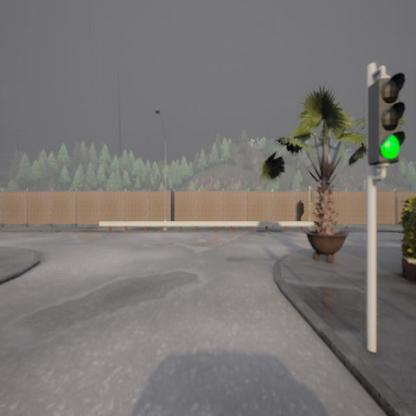traffic_light_green: (376, 71, 406, 163)
